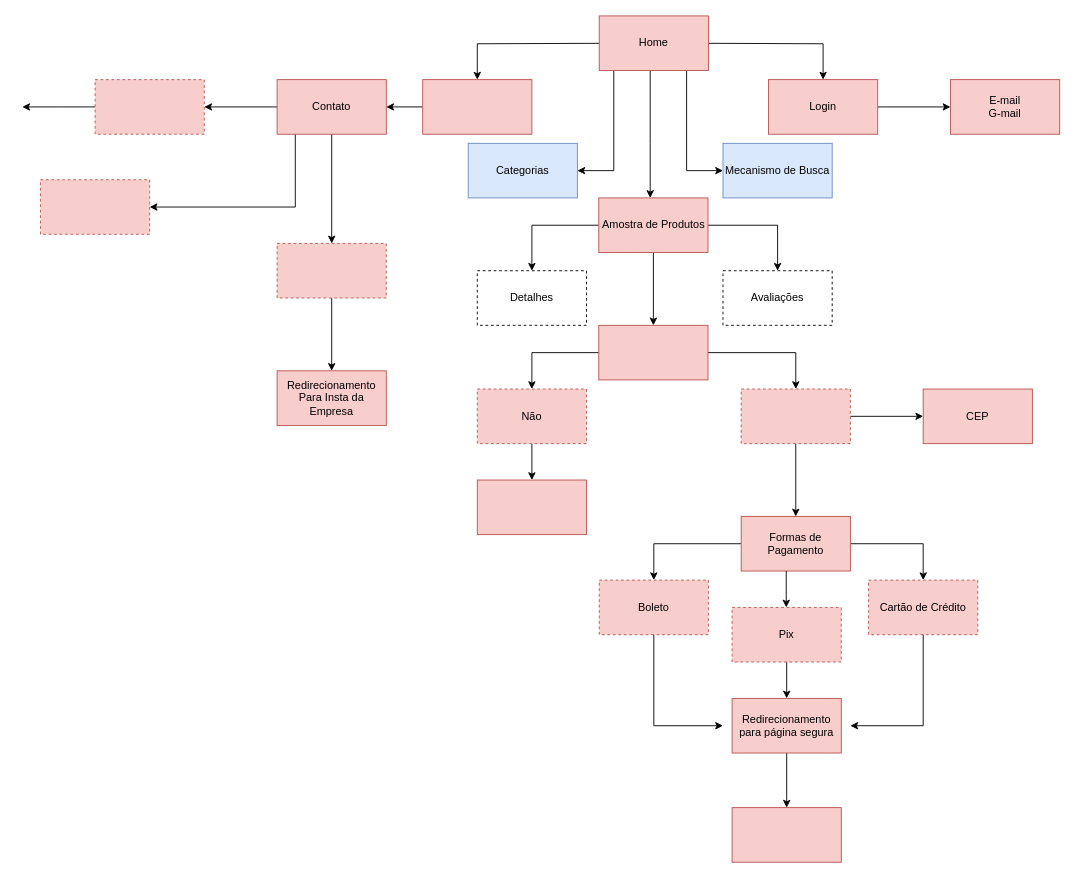
This 1076x878 diagram has some shape labels left out. Here are the shapes that lost their labels. From the top down, the box of each, then its label:
(94, 79, 204, 134): Whatsapp
(422, 79, 532, 134): Sobre Nós
(40, 179, 150, 234): Email de Suporte
(276, 243, 386, 298): Instagram
(598, 324, 708, 380): Comprar
(740, 388, 850, 444): Sim
(476, 479, 586, 535): Retorna ao Home
(731, 807, 841, 862): Confirmação
